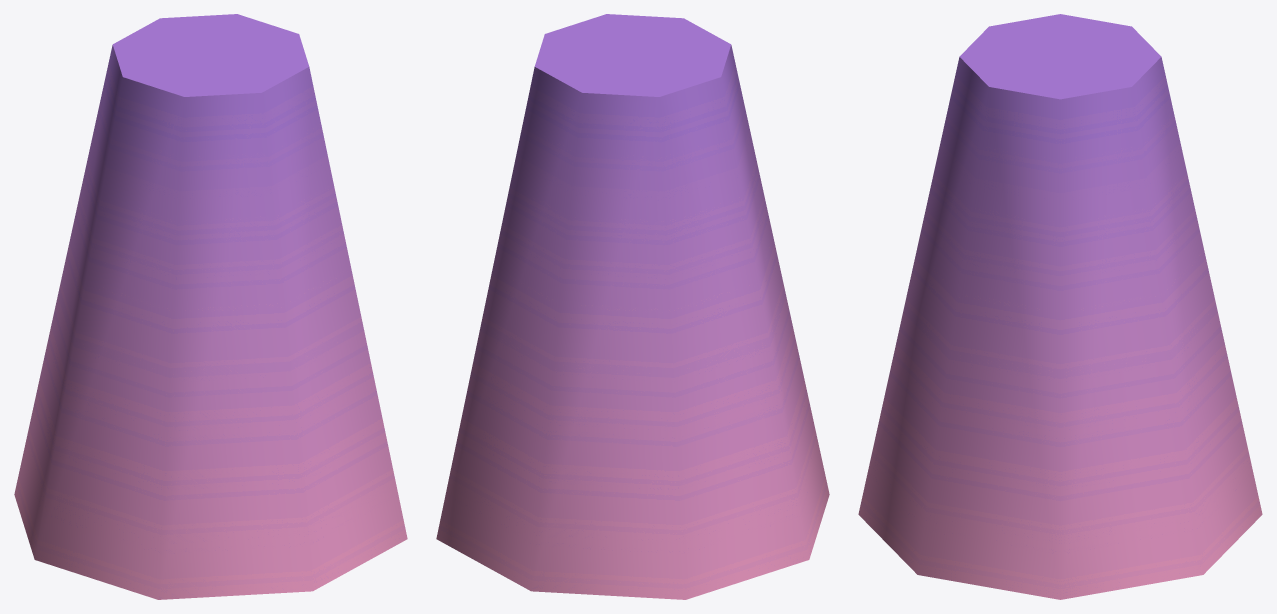
File: tower-defense-kit--enemy-ufo-beam.glb
The picture shows the model from 3 angles, left to right: view 1: azimuth 30°, elevation 25°; view 2: azimuth 150°, elevation 25°; view 3: azimuth 270°, elevation 25°; orthographic projection.
Parts seen in each view (by area): view 1: enemy-ufo-beam; view 2: enemy-ufo-beam; view 3: enemy-ufo-beam.
Boxes of the visible parts, x1,y1,x2,y2 form: enemy-ufo-beam: (14, 14, 407, 599); enemy-ufo-beam: (436, 14, 829, 599); enemy-ufo-beam: (858, 14, 1262, 599).
Bounding box in the file's own units: 0.8 × 1 × 0.8.
Materials: 1 (1 with a texture image).
